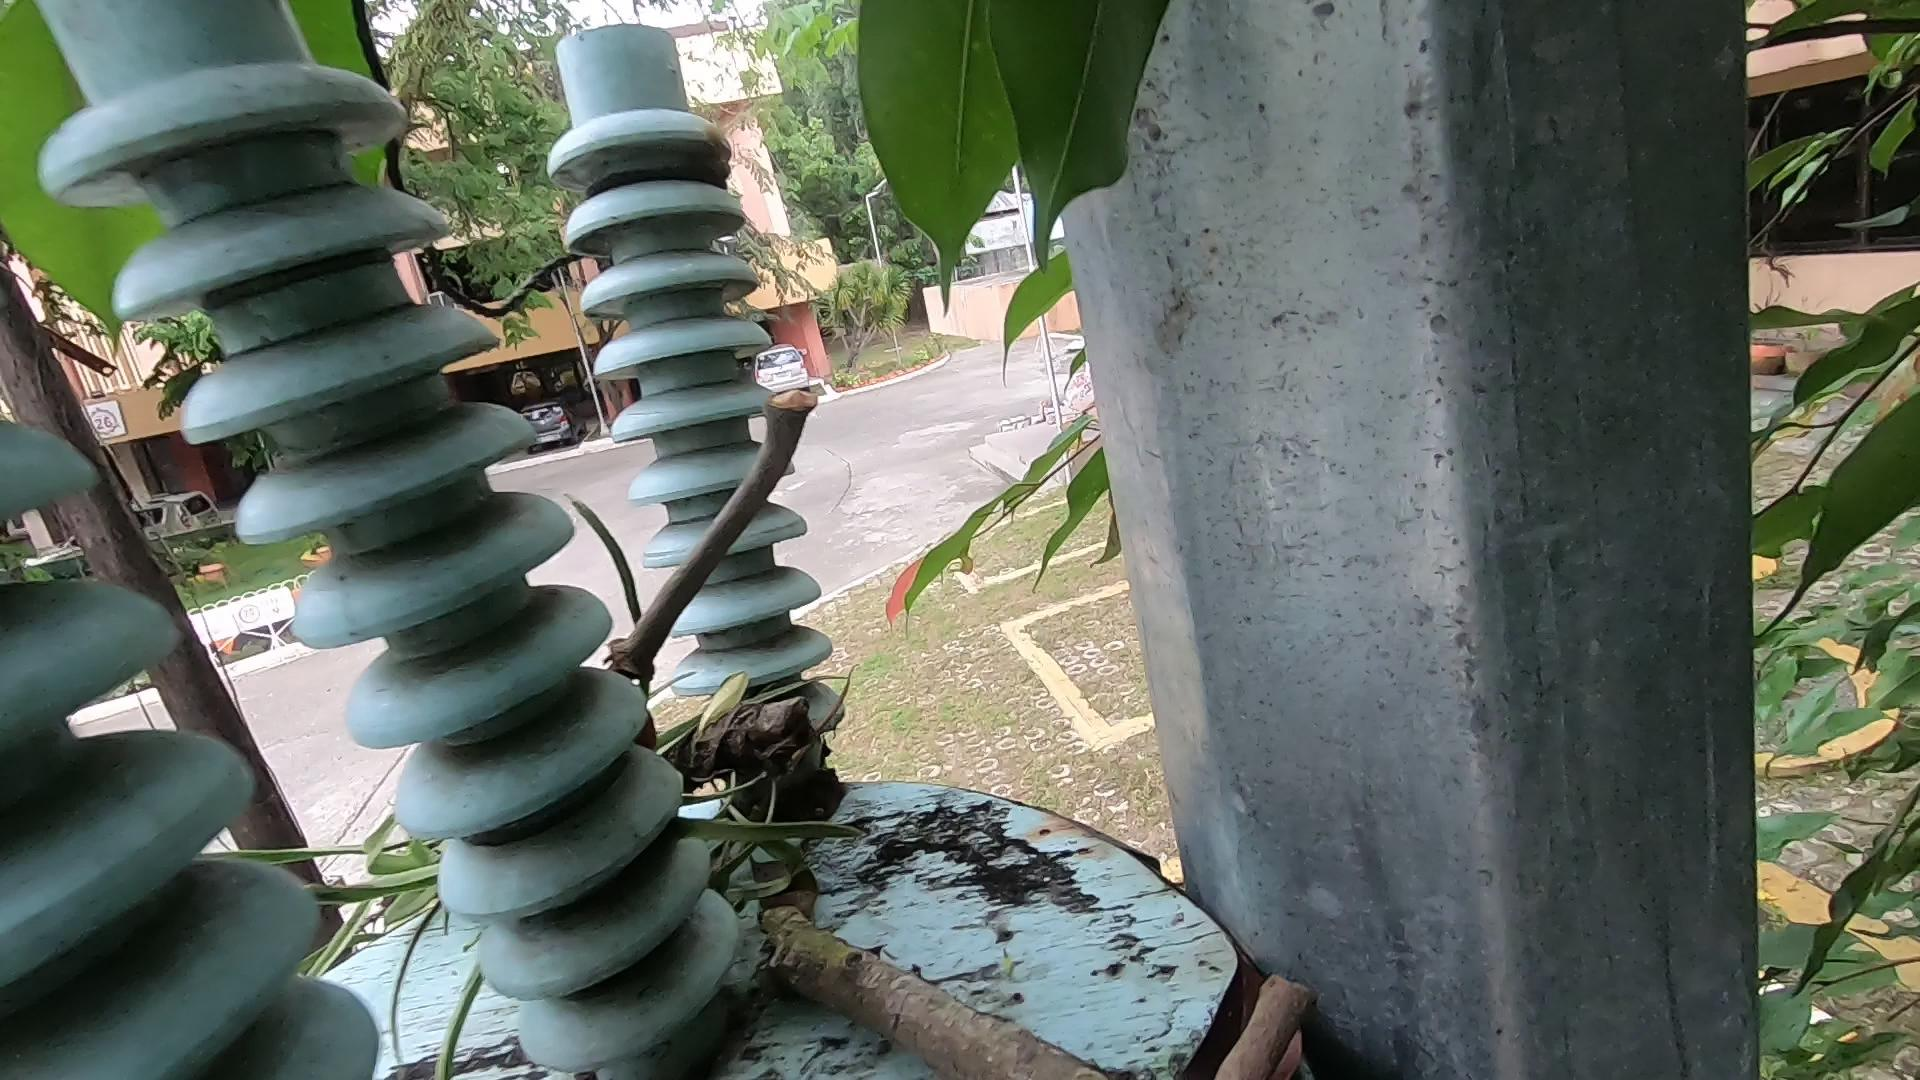branch with leaves: (356, 501, 1153, 1080)
tree branch: (579, 376, 893, 738), (1166, 891, 1336, 1080)
